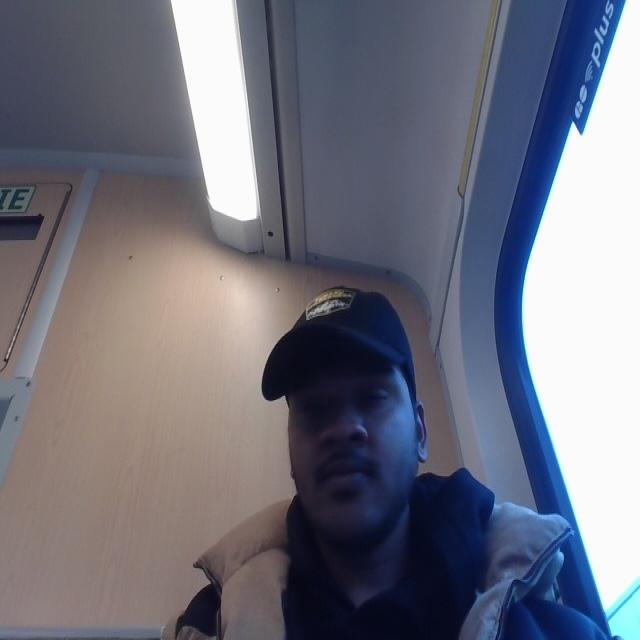hat: (256, 266, 424, 407)
